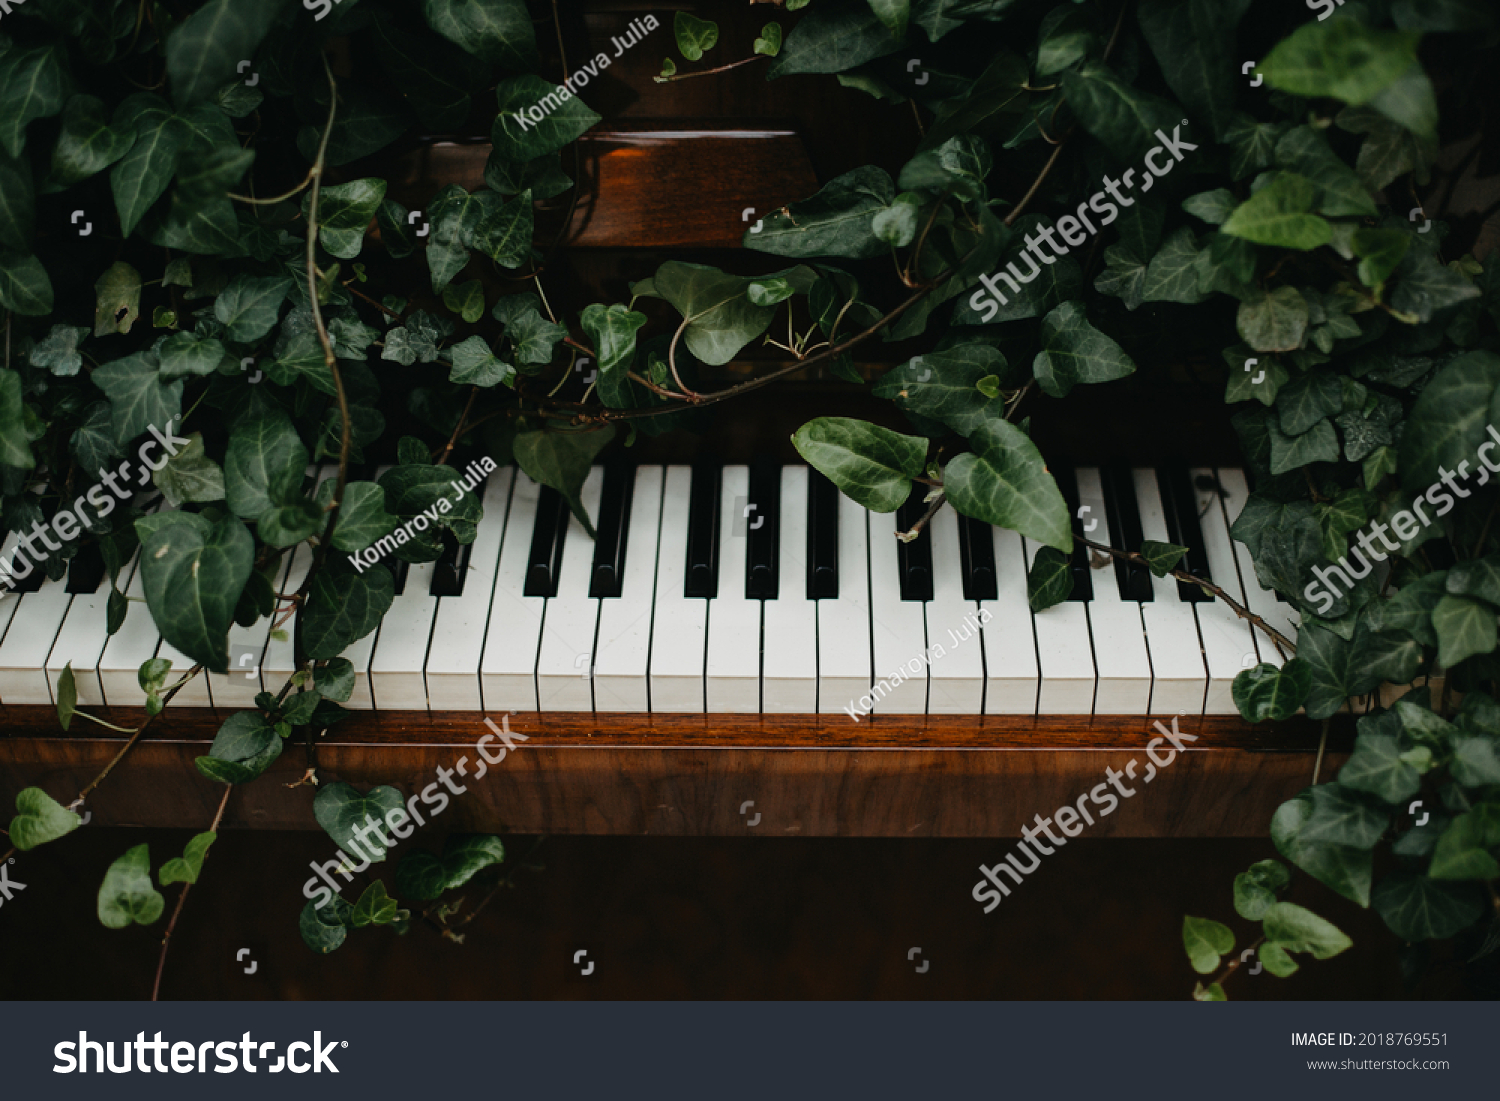Piano: (1, 299, 1483, 891)
